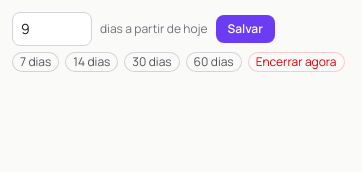
TrialSetter › começa com os dias que faltam e salva o valor digitado (para mais ou para menos)
This screenshot has width=362, height=172.
Step 1. Replace the text in the number field named "dias de teste a partir de hoje" with "3" → (52, 29), box [12, 12, 92, 46]
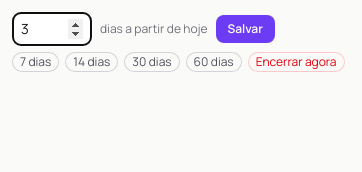
Step 2. Click the button "Salvar" → (245, 29), box [216, 15, 275, 43]
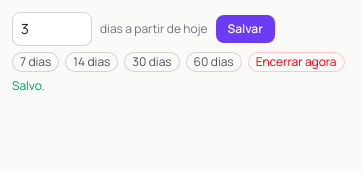
Expected: the message shows "Salvo", [12, 77, 45, 94]
